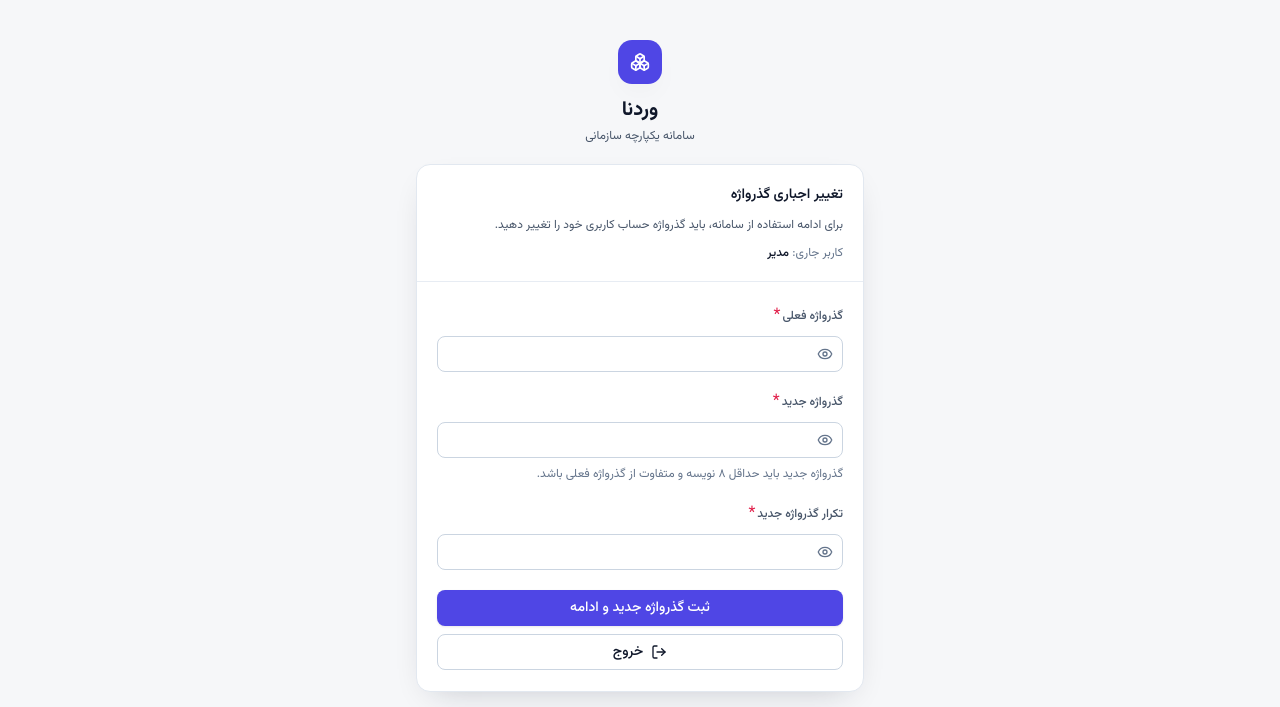
Forced first-login password change flow › redirects a restored session with mustChangePassword=true away from /app routes and preserves the deep link after password change
Expected: the heading "تغییر اجباری گذرواژه" is shown, [731,184,843,206]
Expected: the heading "درخت حساب‌ها" is not shown
Type "initial-bootstrap-secret" into the password field labelled "گذرواژه فعلی".
click(640, 354); type("initial-bootstrap-secret")  # box [437,336,843,372]
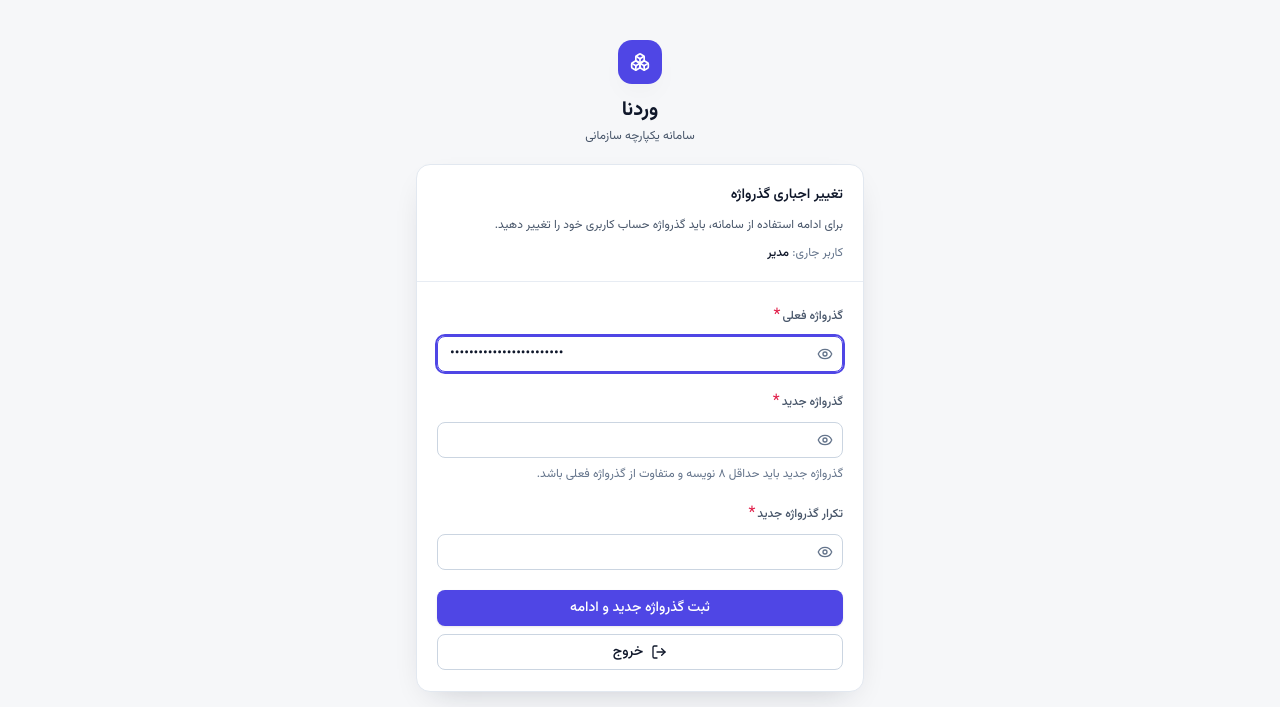
Type "rotated-strong-secret-99" into the password field labelled "گذرواژه جدید".
click(640, 440); type("rotated-strong-secret-99")  # box [437,422,843,458]
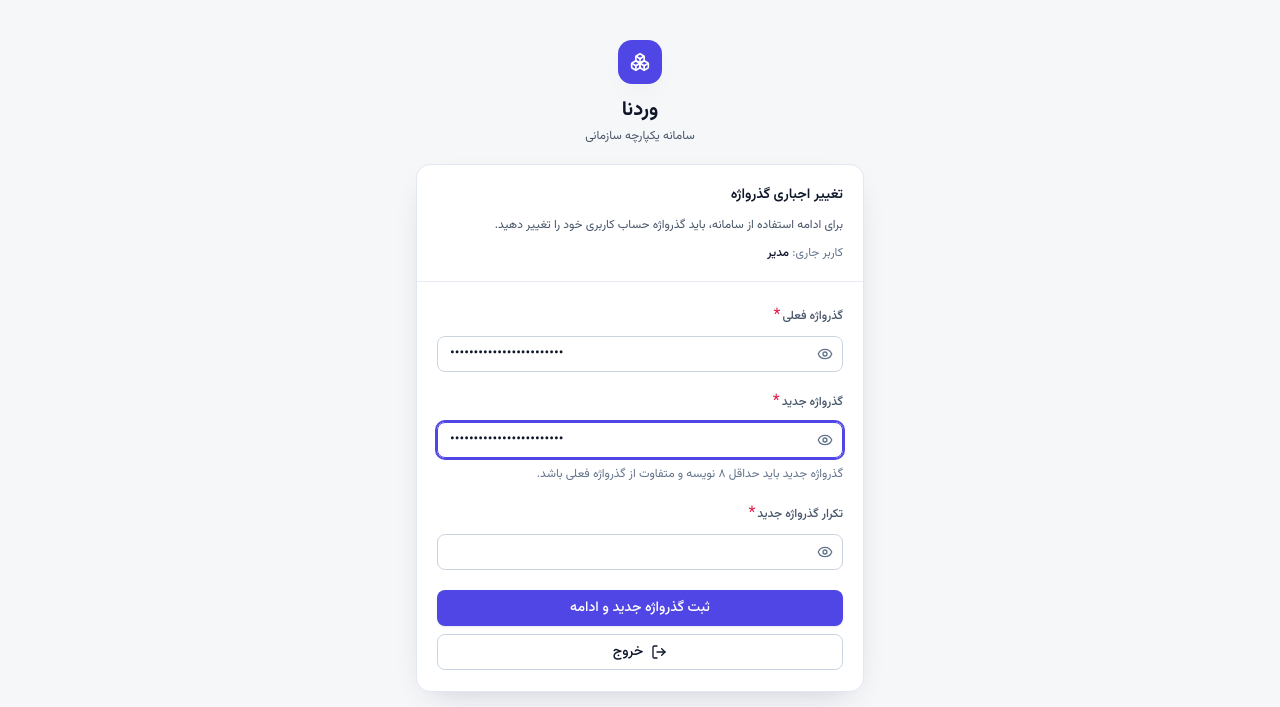
Type "rotated-strong-secret-99" into the password field labelled "تکرار گذرواژه جدید".
click(640, 552); type("rotated-strong-secret-99")  # box [437,534,843,570]
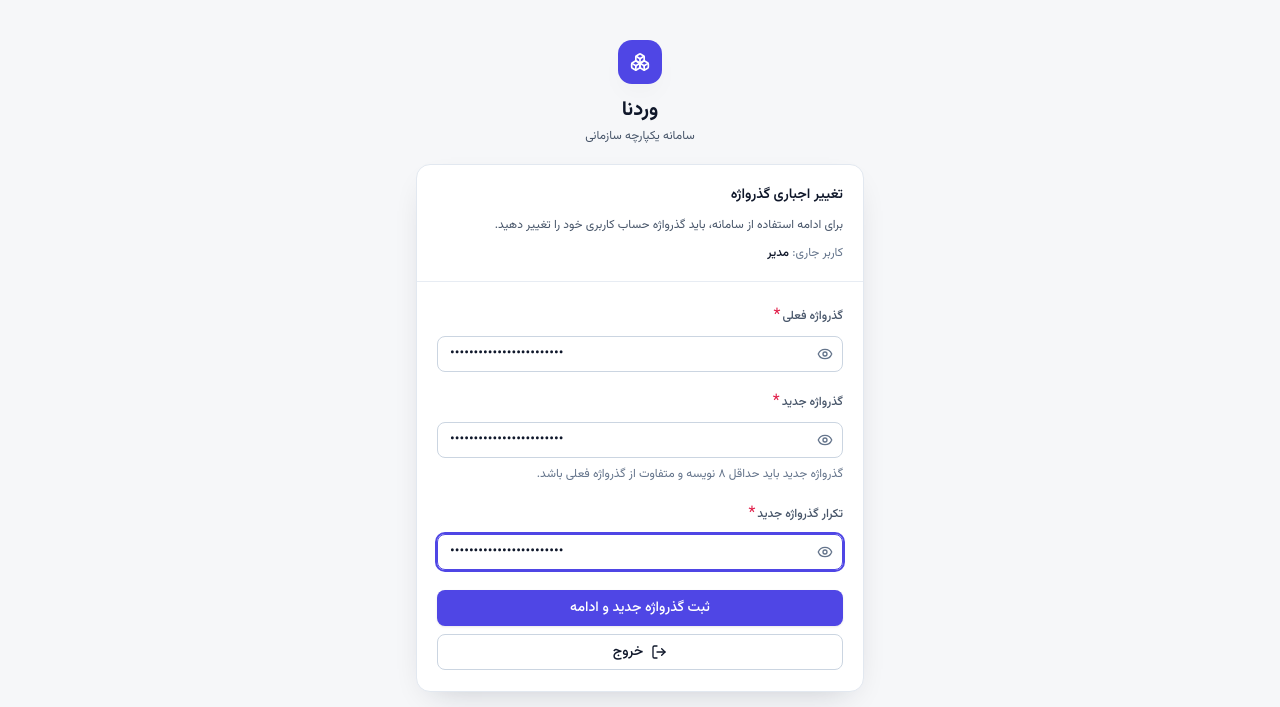
Click the button "ثبت گذرواژه جدید و ادامه".
click(640, 608)  # box [437,590,843,626]
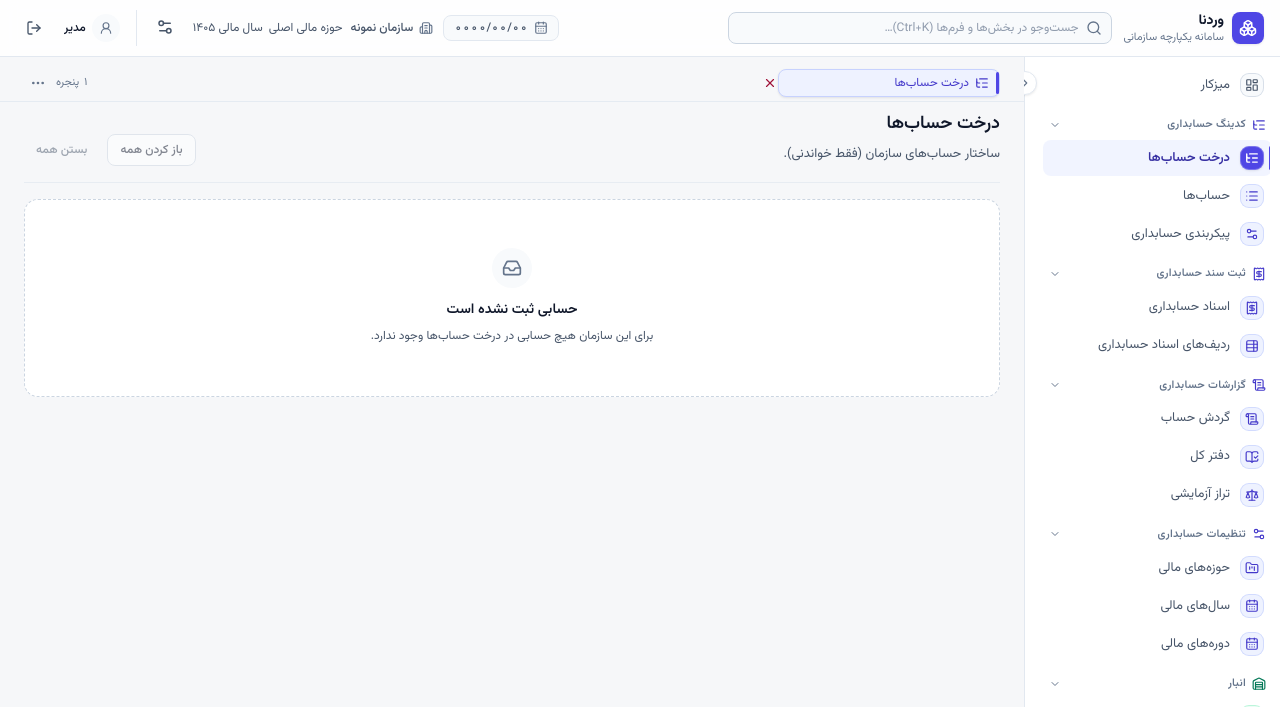
Expected: the heading "درخت حساب‌ها" is shown, [886,110,1000,138]
